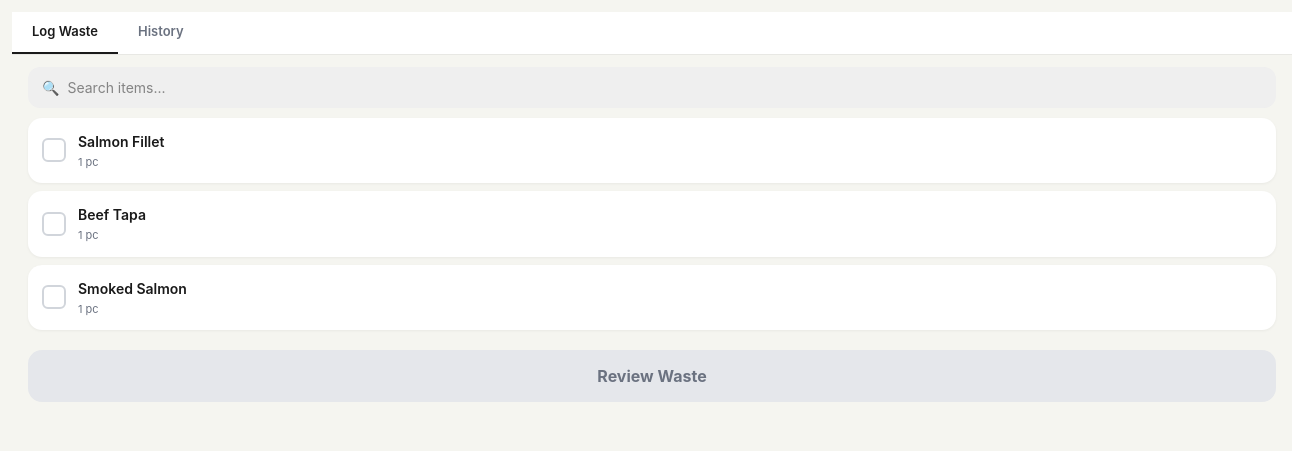
Scenario: WasteContent review screen › shows item names and qtys on review screen
The width and height of the screenshot is (1292, 451).
Click the element with test id "item-row-Salmon Fillet".
click(652, 150)  # box [28,118,1276,183]
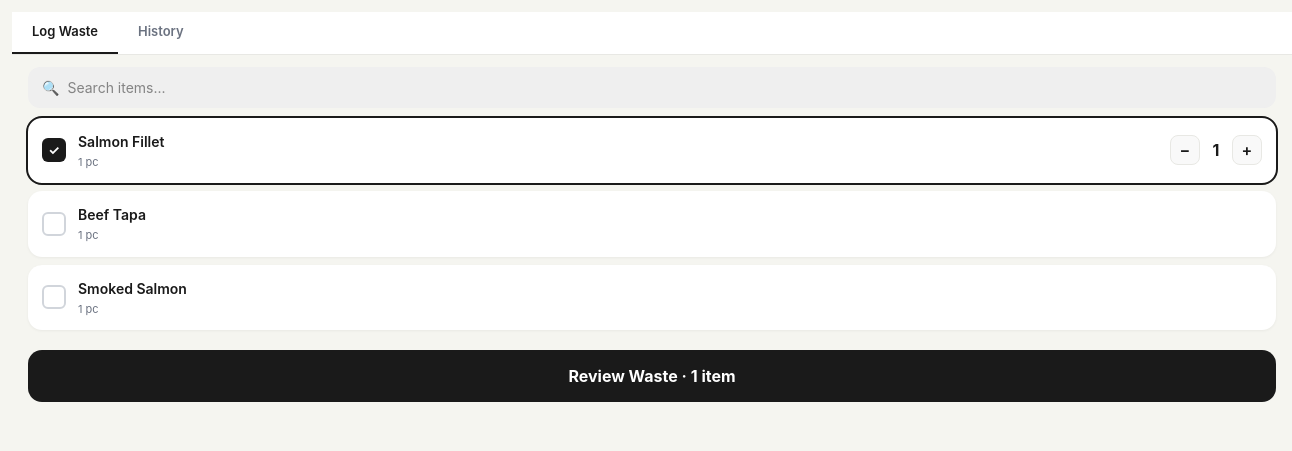
Click the button with test id "inc-Salmon Fillet".
click(1247, 150)  # box [1232,135,1262,165]
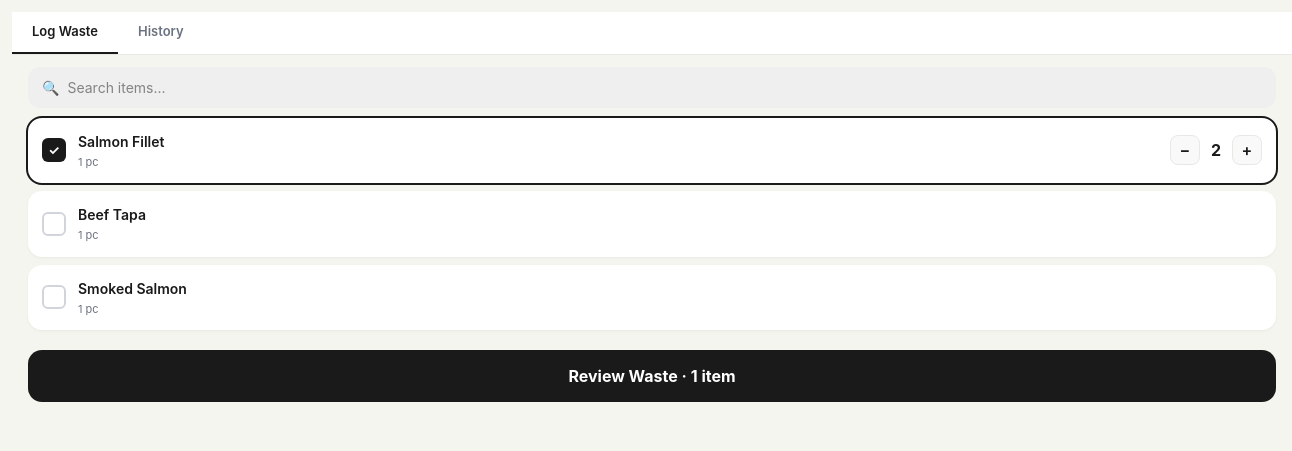
Click the element with test id "item-row-Beef Tapa".
click(652, 224)  # box [28,191,1276,256]
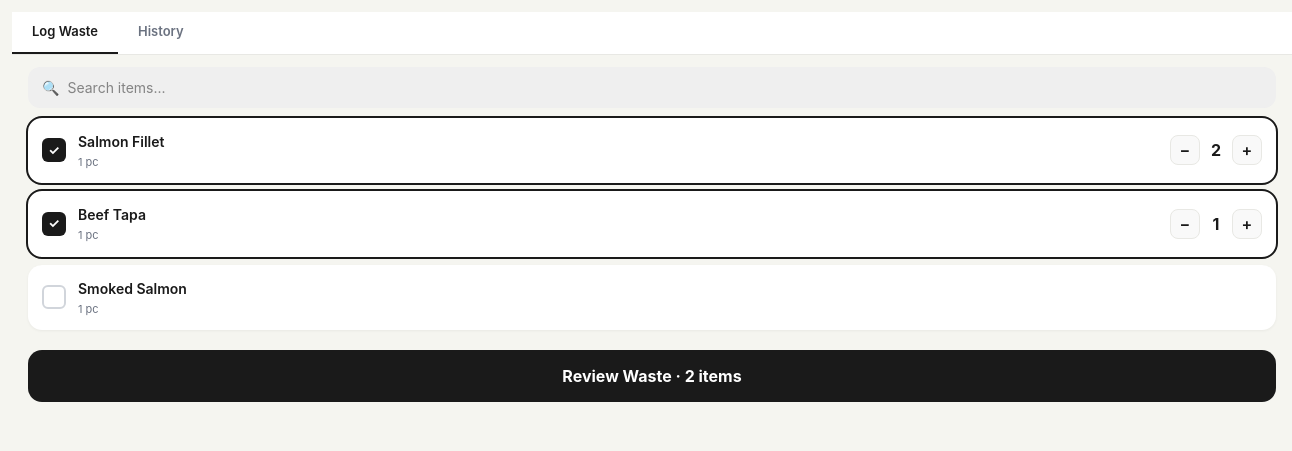
Click the button "Review Waste · 2 items".
click(652, 376)  # box [28,350,1276,402]
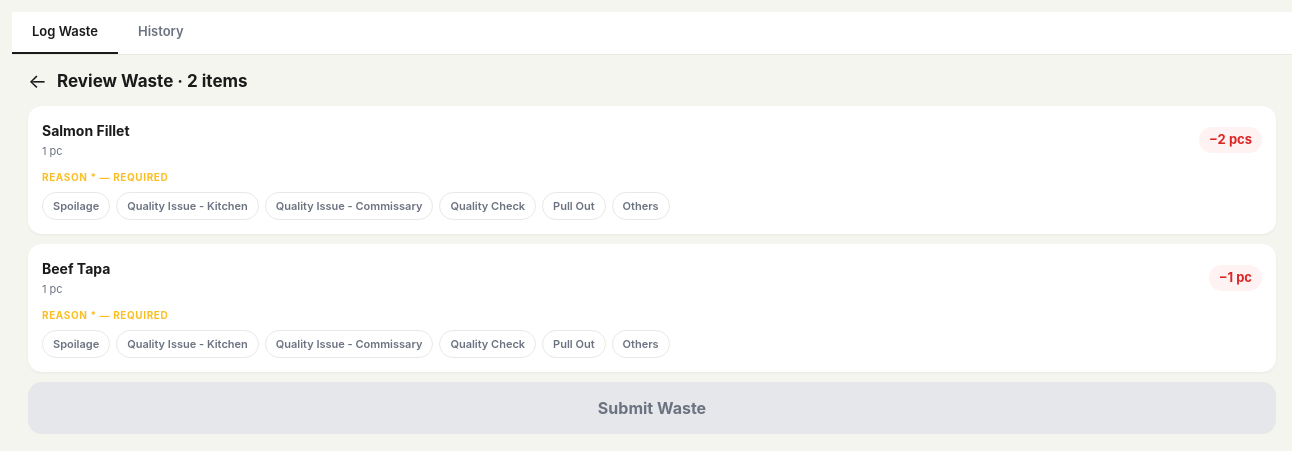
expect the text "Salmon Fillet" is shown: met, box [42,120,130,141]
expect the text "Beef Tapa" is shown: met, box [42,258,110,279]
expect the text with test id "review-qty-Salmon Fillet" shows "2": met, box [1218,131,1226,147]
